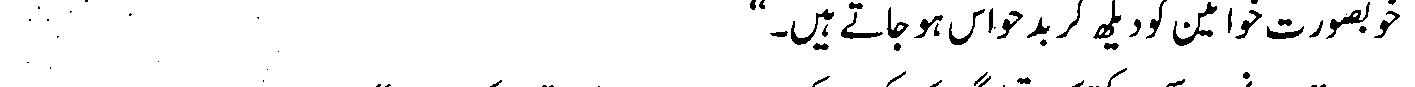bay_shosha: (1038, 16, 1051, 47)
